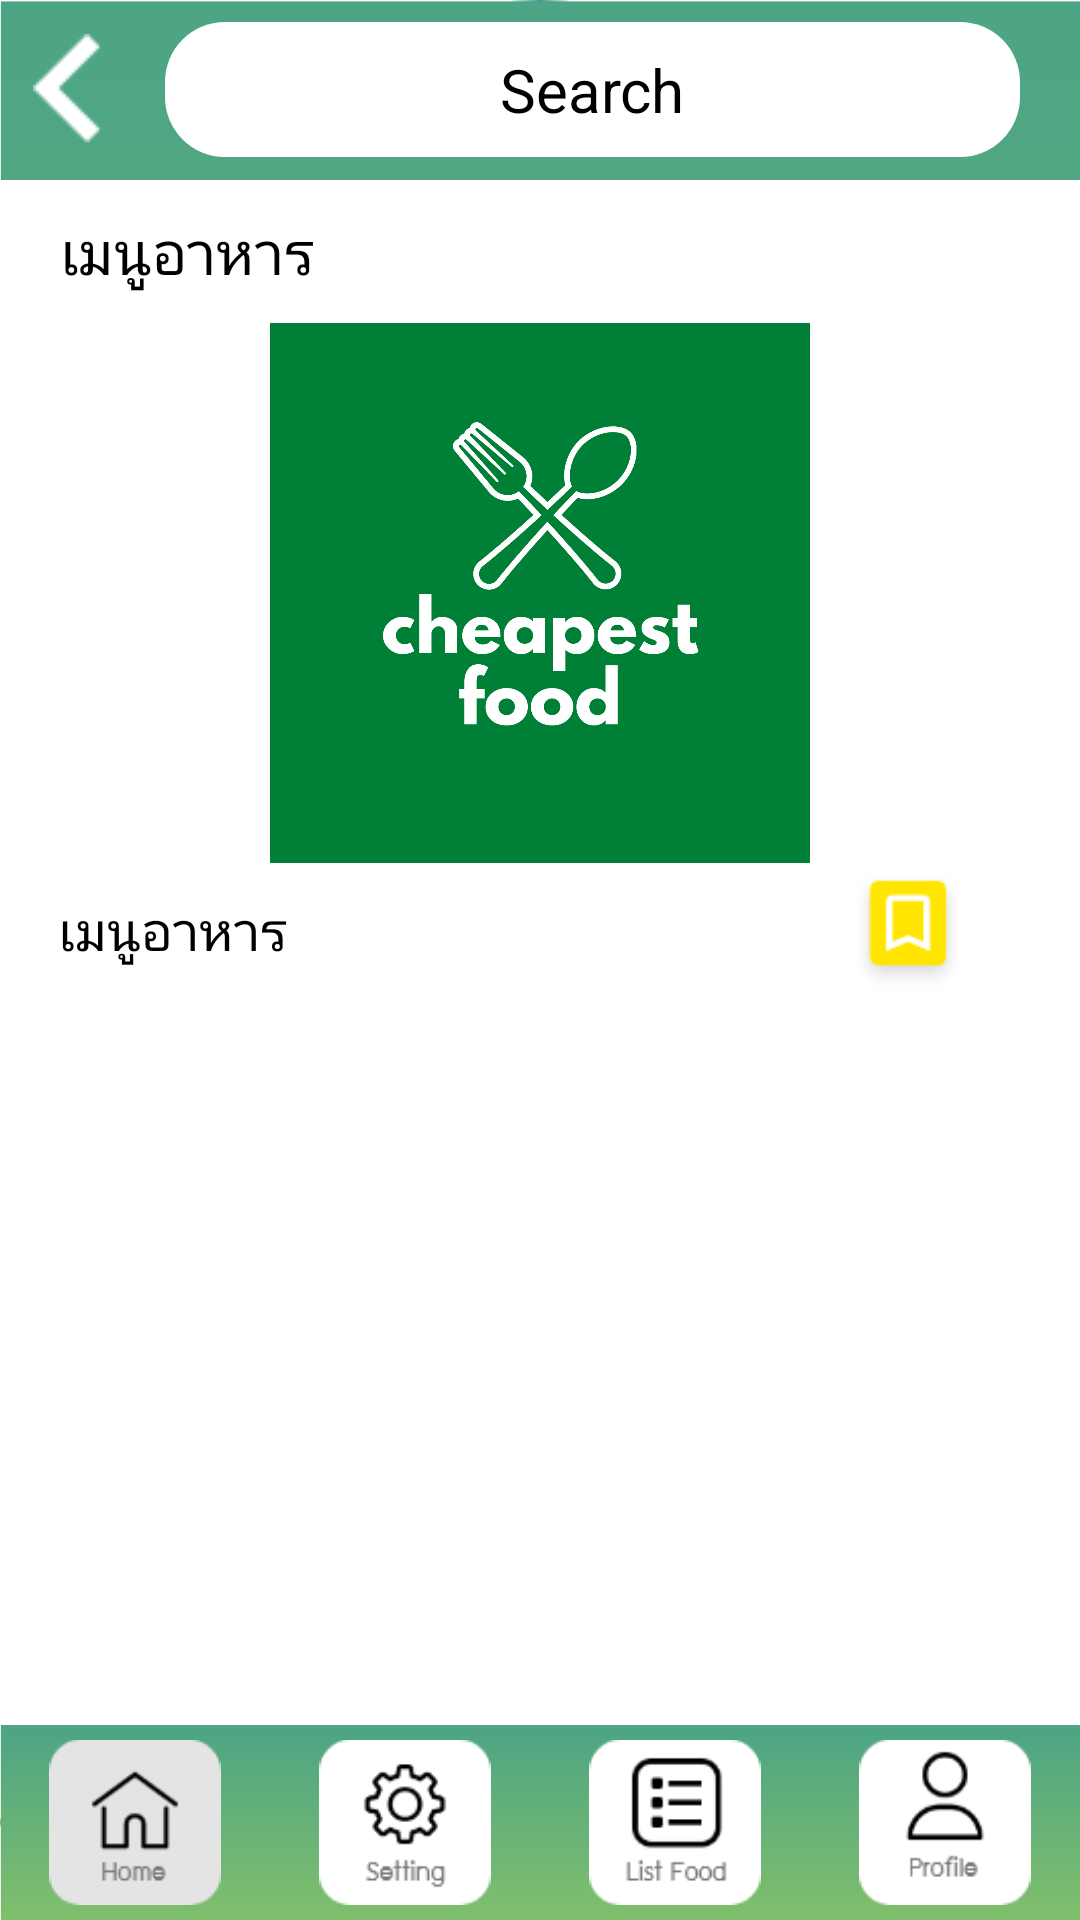

Locate icon controls on the screen. Image size 1080 x 1920, boxes as (x1, y1, x2, y2).
icbtnback: (33, 34, 100, 143)
